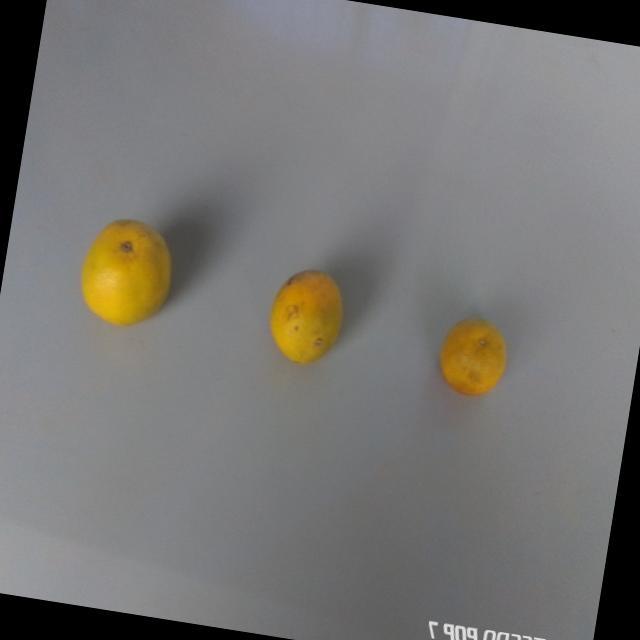agrume: (69, 210, 186, 338), (257, 256, 359, 378), (426, 307, 519, 405)
